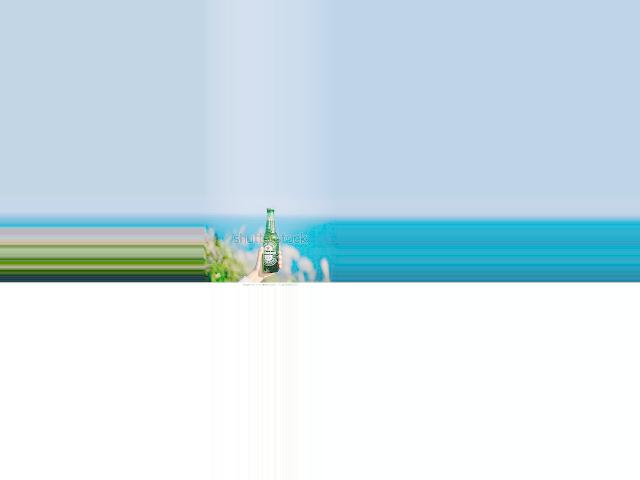beer: (262, 208, 278, 273)
